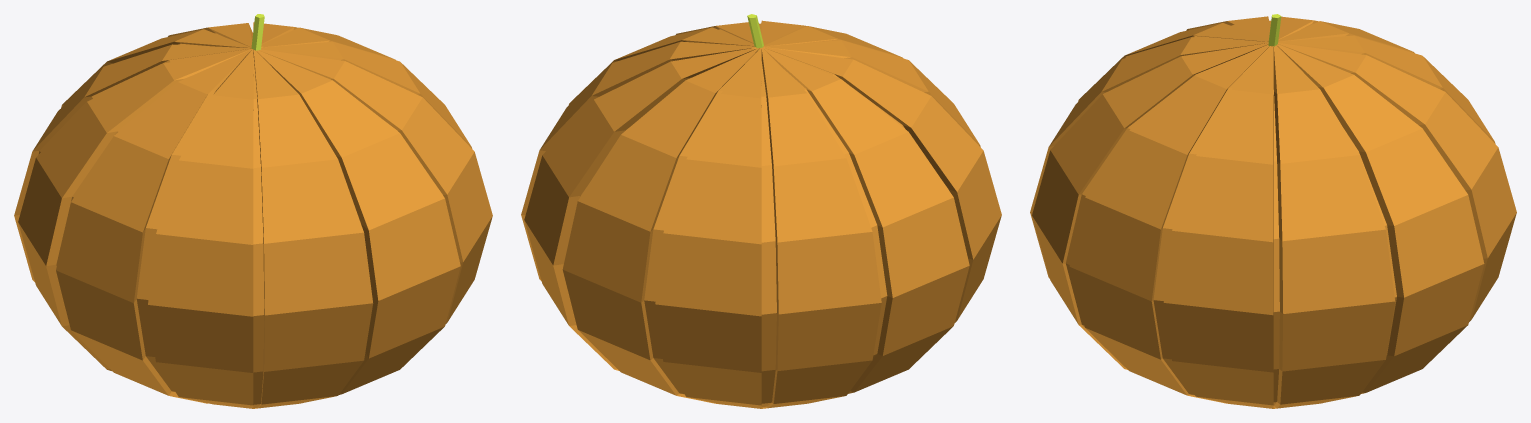
Rendered from pumpkin03.fbx.
3 renders of one model, left to right at view 1: azimuth 30°, elevation 25°; view 2: azimuth 150°, elevation 25°; view 3: azimuth 270°, elevation 25°, orthographic.
Parts seen in each view (by area): view 1: Sphere.005; view 2: Sphere.005; view 3: Sphere.005.
Boxes of the visible parts, bbox=[...] form: Sphere.005: bbox=[14, 14, 492, 408]; Sphere.005: bbox=[521, 14, 1001, 408]; Sphere.005: bbox=[1030, 14, 1516, 408].
Bounding box in the file's own units: 0.3539 × 0.297 × 0.3539.
